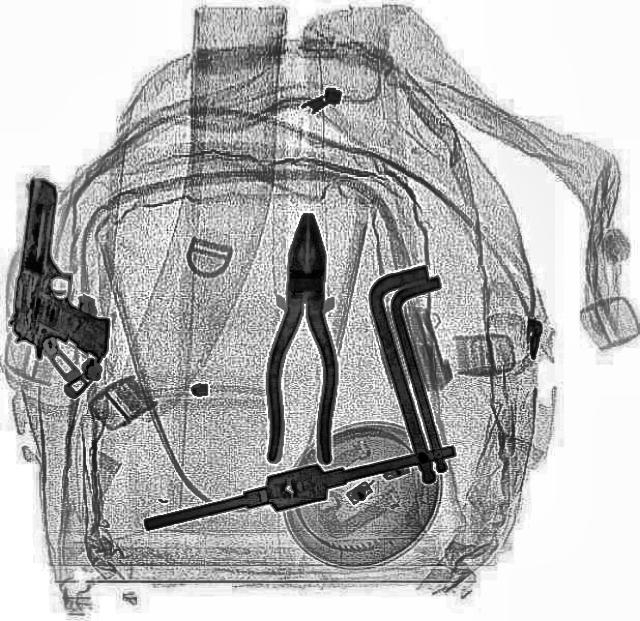Gun: (3, 175, 129, 365)
Pliers: (262, 211, 344, 462)
